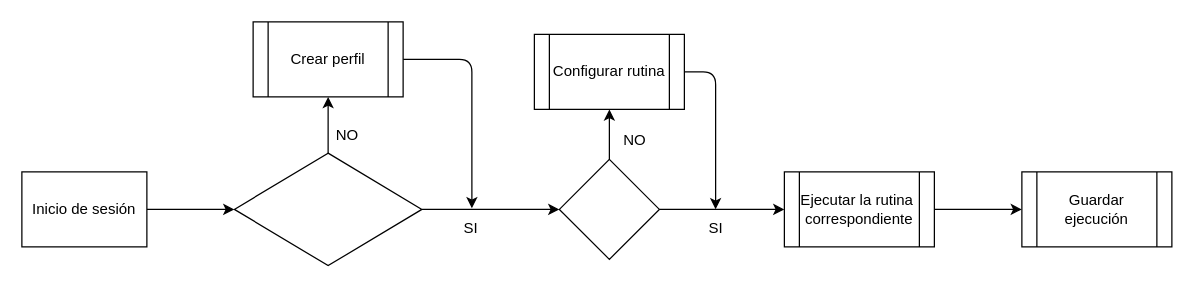
The diagram is 1194 pixels wide and 288 high, and some of its shapes have lost their labels. Each missing label, with the centre of its shape:
"¿Se ha configurado rutinas?" belongs at point (608, 208).
"¿Se ha registrado el usuario?" belongs at point (327, 209).
